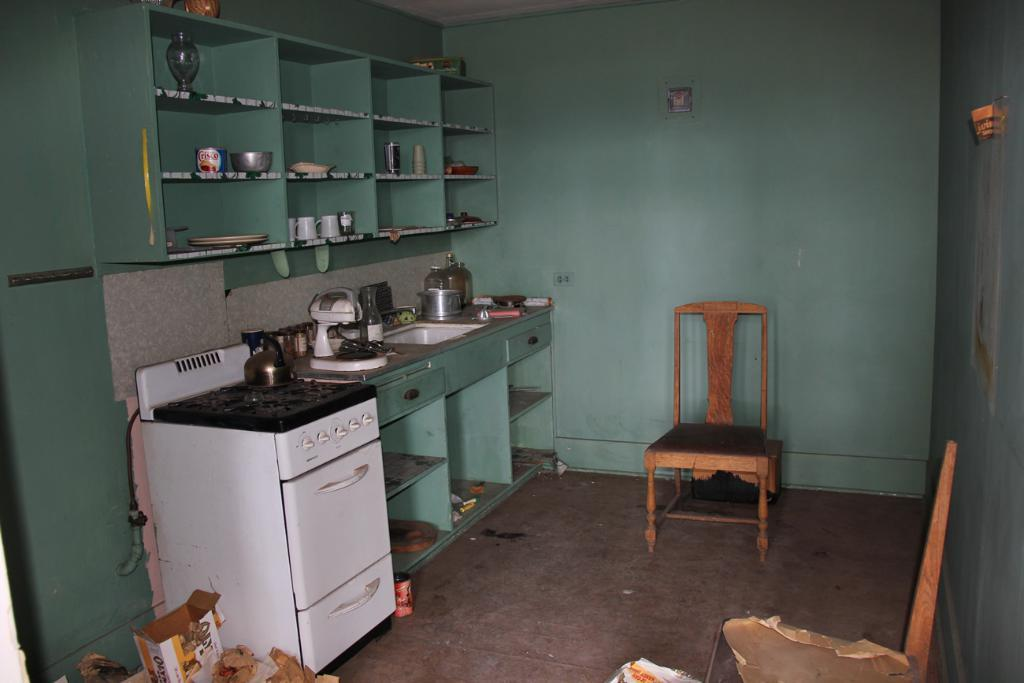cabinet_door: (286, 482, 390, 557), (306, 570, 404, 639), (380, 383, 441, 403), (510, 330, 548, 353)
handle: (338, 590, 386, 612), (318, 476, 374, 485), (404, 382, 422, 402), (529, 334, 543, 350)
